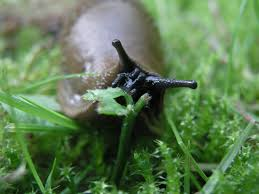slug: (61, 1, 198, 126)
